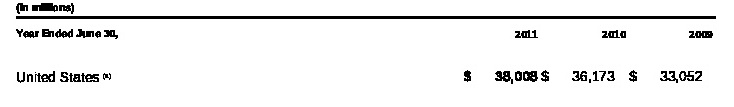table: (0, 0, 734, 107)
